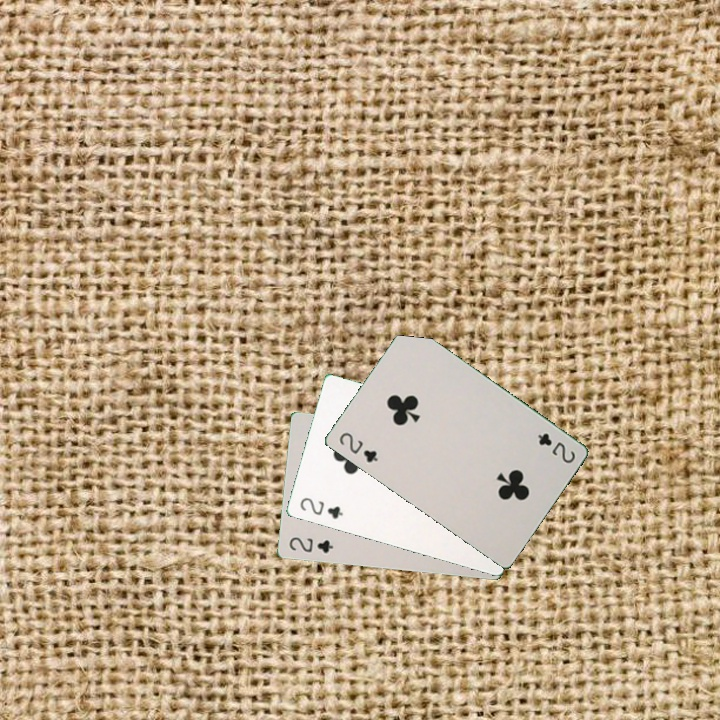2c: (335, 428, 380, 465), (533, 429, 578, 466), (296, 493, 346, 522), (285, 533, 336, 556)
